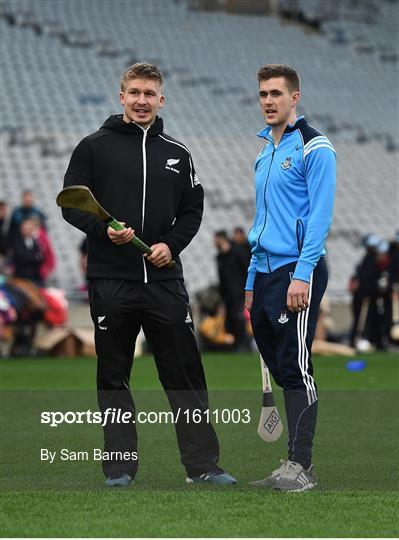player: (63, 64, 229, 474), (240, 60, 341, 490)
